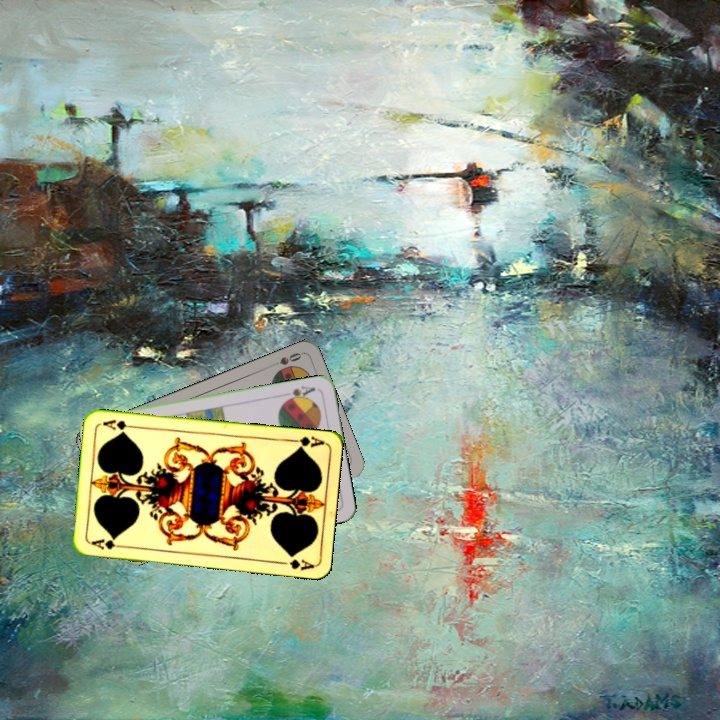GA: (286, 433, 326, 452), (87, 535, 127, 552)
SA: (280, 381, 318, 405)
SO: (265, 348, 304, 370)
